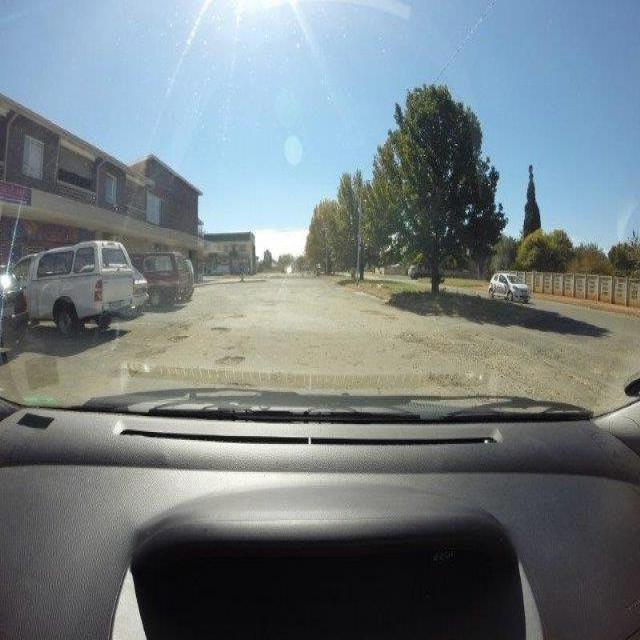lubang: (426, 362, 481, 396), (218, 352, 248, 374), (167, 331, 199, 345), (142, 345, 166, 359), (217, 322, 235, 334)
